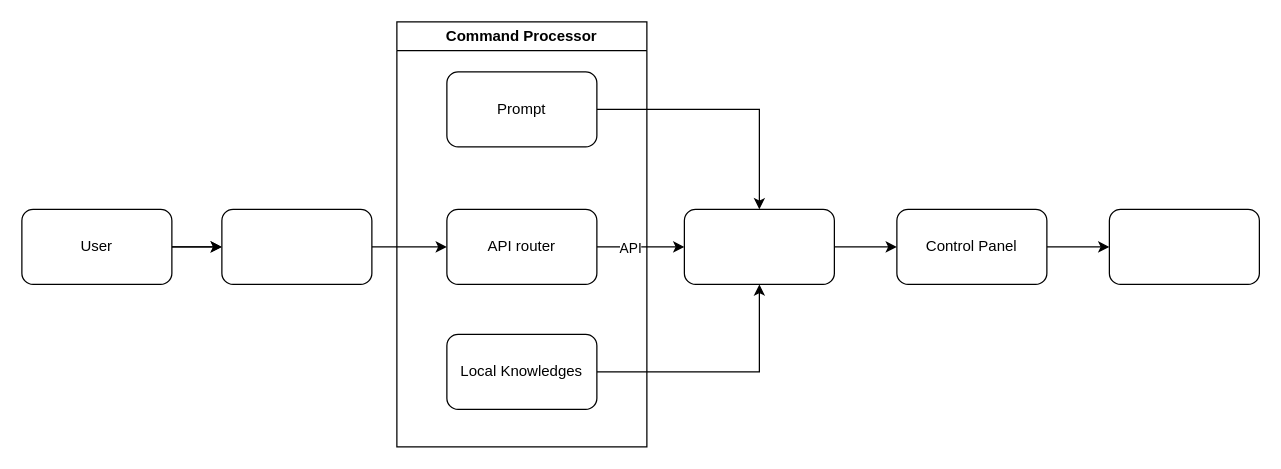
The diagram is 1281 pixels wide and 469 high, and some of its shapes have lost their labels. The shapes that lost their labels are listed below. From the top down, each one's centre as x and y in pixels, then its label:
At (296,246): "Interface (Frontend)".
At (758,246): "LLM".
At (1183,246): "Actions".
